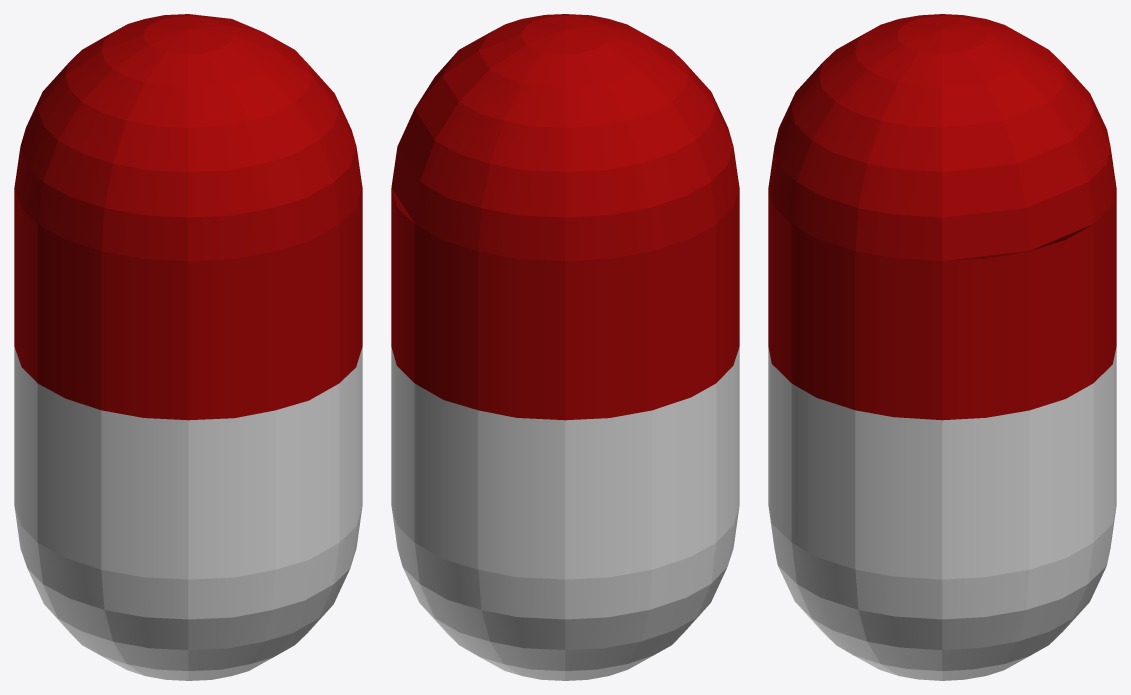
Rendered from Red Pill.fbx.
3 views of the same model, side by side, from view 1: azimuth 30°, elevation 25°; view 2: azimuth 150°, elevation 25°; view 3: azimuth 270°, elevation 25° (orthographic).
Visible parts, largest first — view 1: pSphere7; view 2: pSphere7; view 3: pSphere7.
Boxes of the visible parts, box(x1,y1,x2,y2) form: pSphere7: box(14, 14, 362, 680); pSphere7: box(391, 14, 739, 680); pSphere7: box(768, 14, 1116, 680).
Bounding box in the file's own units: 3.91 × 7.88 × 3.91.
